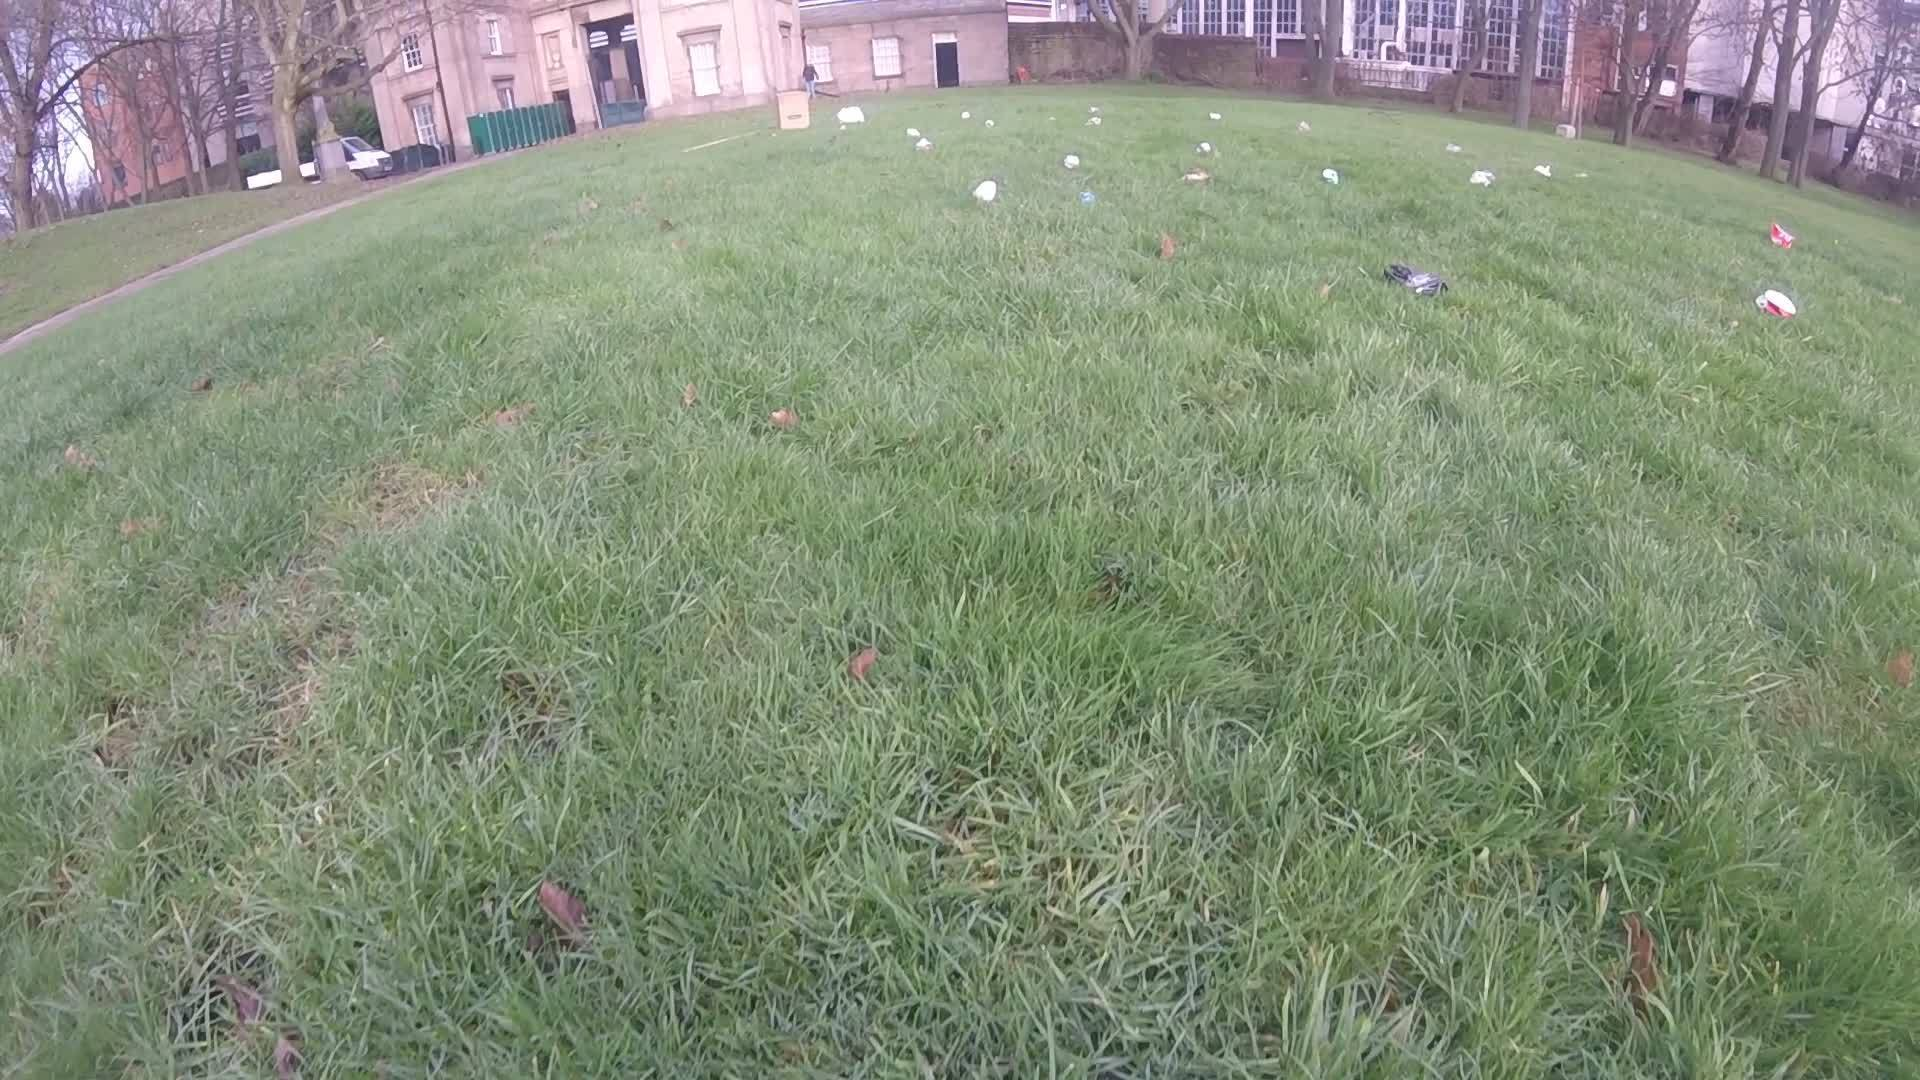litter: (1379, 262, 1449, 298), (775, 92, 814, 132), (1753, 287, 1801, 318), (972, 175, 1000, 206), (1768, 222, 1795, 253), (833, 108, 865, 127), (1316, 167, 1341, 189), (1178, 167, 1208, 185), (1439, 141, 1466, 154), (1063, 153, 1081, 170), (1532, 164, 1552, 179), (1470, 171, 1494, 185), (1193, 141, 1213, 156), (916, 137, 932, 150), (1208, 108, 1221, 123), (1081, 193, 1096, 204), (980, 117, 996, 127), (1087, 117, 1102, 127), (1298, 121, 1311, 132), (956, 111, 972, 119), (903, 129, 920, 136), (1087, 104, 1098, 113)
